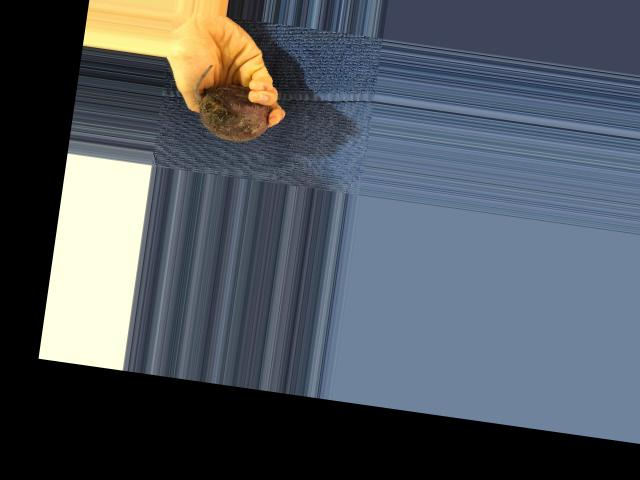beet: (188, 61, 276, 145)
